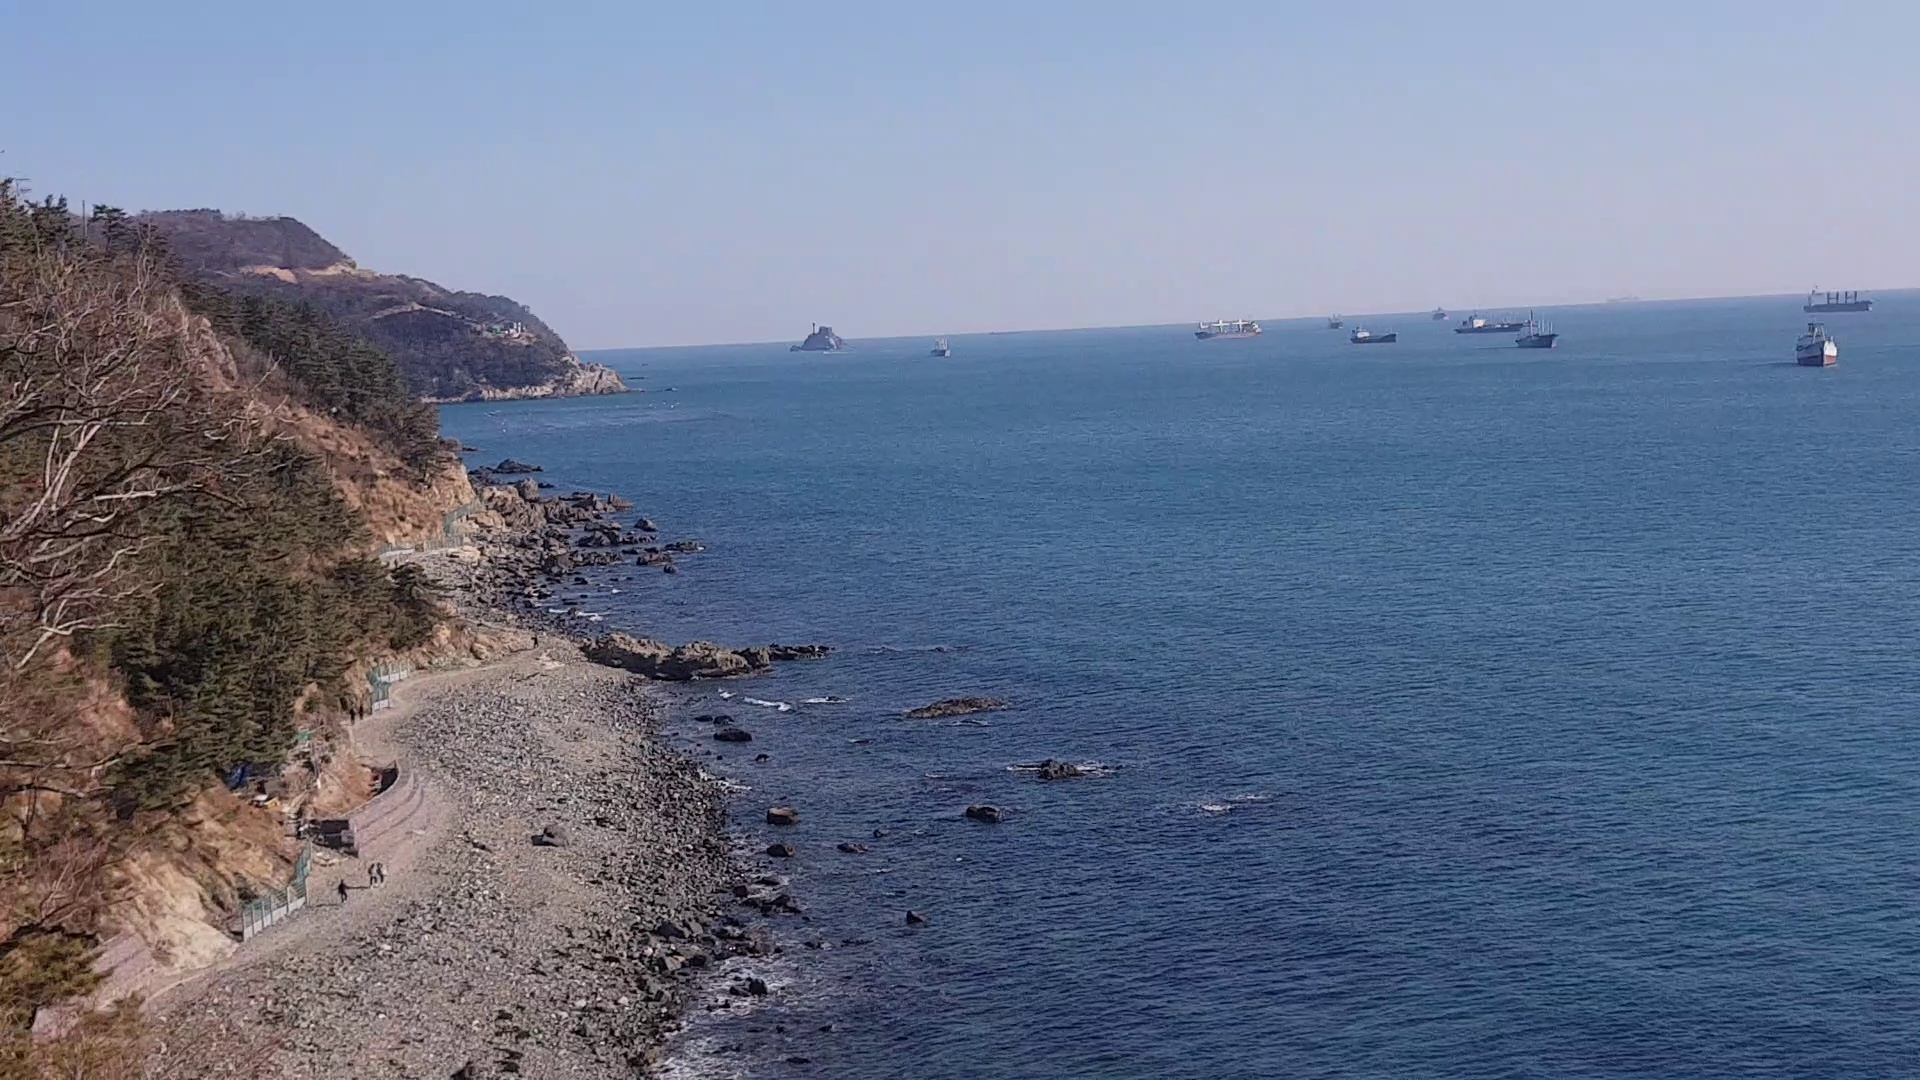Bulk_Carrier: (1445, 316, 1555, 345), (1187, 322, 1259, 338), (791, 335, 843, 351)
